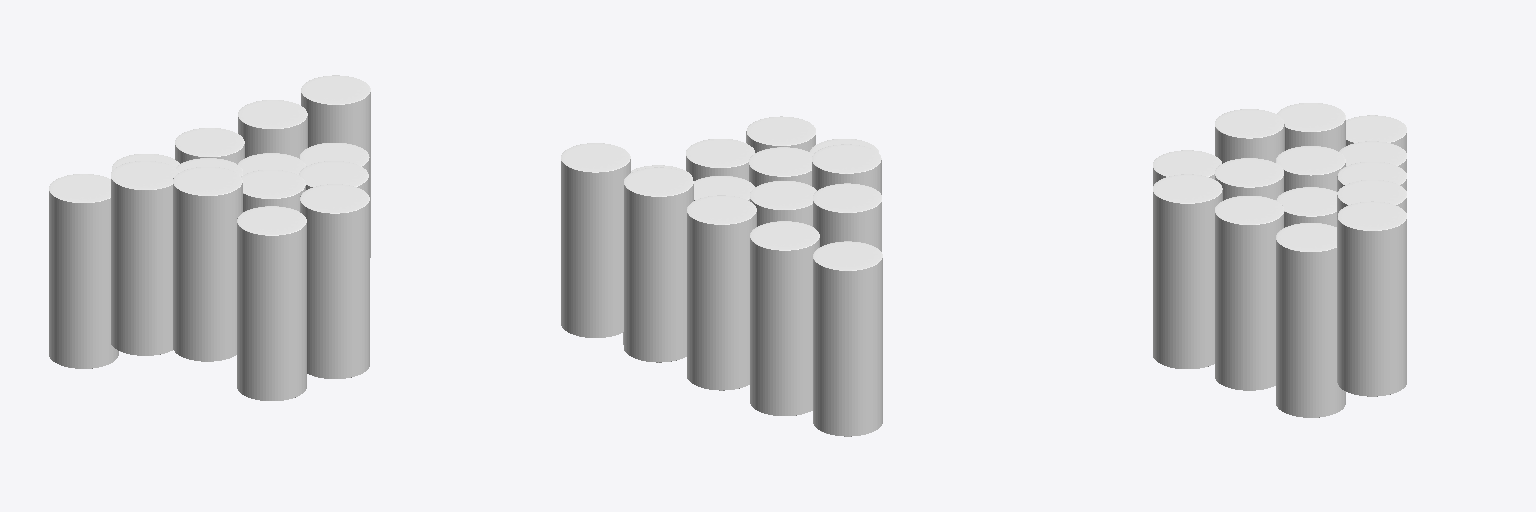
The model's file is 12304_Wooden_Log_Stack_v2_l3.obj.
3 views of the same model, side by side, from view 1: azimuth 30°, elevation 25°; view 2: azimuth 150°, elevation 25°; view 3: azimuth 270°, elevation 25° (orthographic).
Parts seen in each view (by area): view 1: Wooden_Log__Stack_2, Wooden_Log__Stack_1; view 2: Wooden_Log__Stack_2, Wooden_Log__Stack_1; view 3: Wooden_Log__Stack_1, Wooden_Log__Stack_2.
Part boxes in pixels (bbox=[...]): Wooden_Log__Stack_2: bbox=[49, 75, 370, 400]; Wooden_Log__Stack_1: bbox=[111, 143, 369, 361]; Wooden_Log__Stack_2: bbox=[561, 116, 882, 436]; Wooden_Log__Stack_1: bbox=[623, 139, 881, 344]; Wooden_Log__Stack_1: bbox=[1215, 103, 1345, 417]; Wooden_Log__Stack_2: bbox=[1153, 115, 1406, 396].
Size of the model in its own units: 33.04 by 20.5 by 23.31.